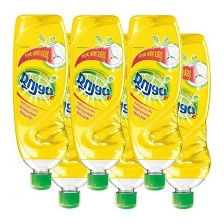book: (8, 11, 70, 191), (124, 12, 183, 193), (67, 12, 126, 191), (98, 32, 157, 210), (157, 32, 214, 211), (44, 31, 98, 210)
